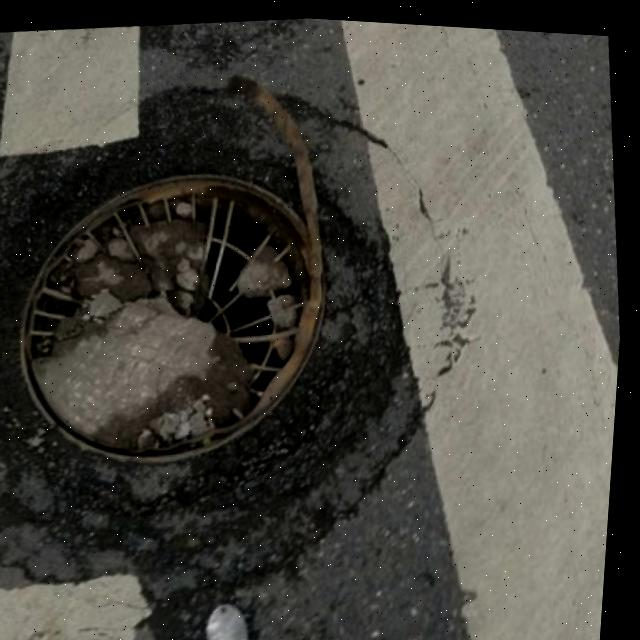manhole: (0, 135, 380, 493)
